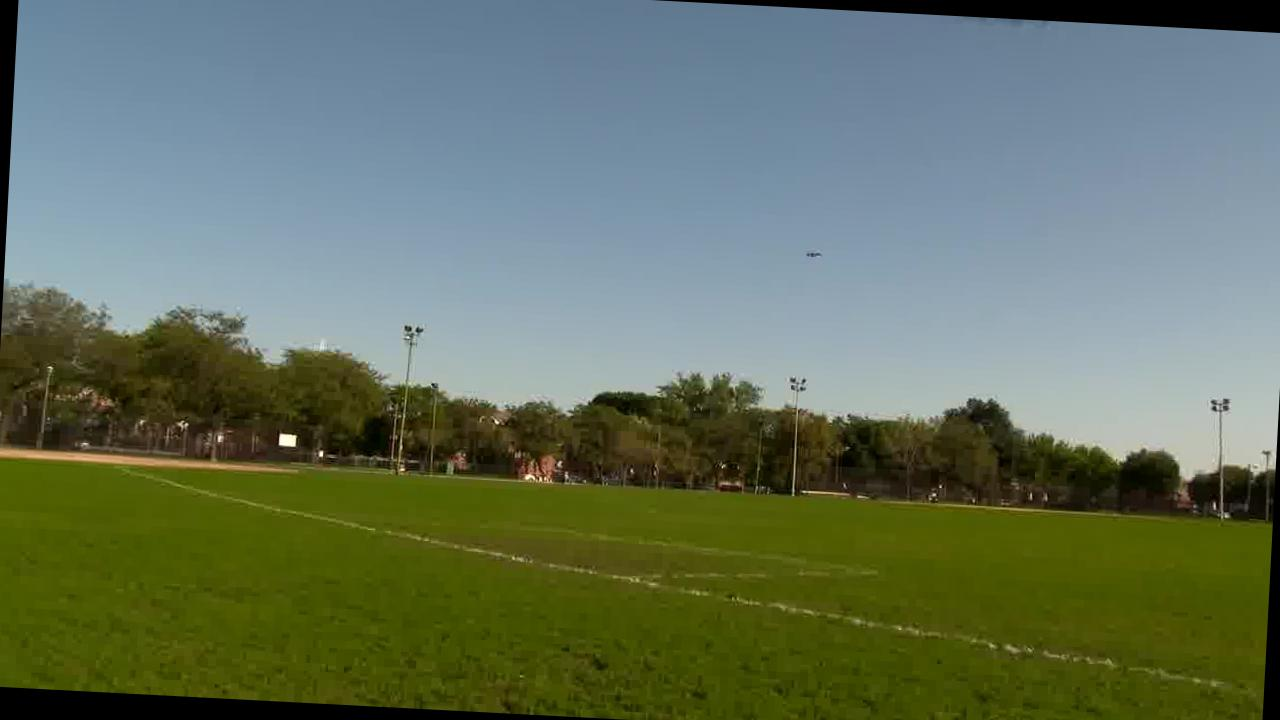drone: (792, 239, 832, 259)
